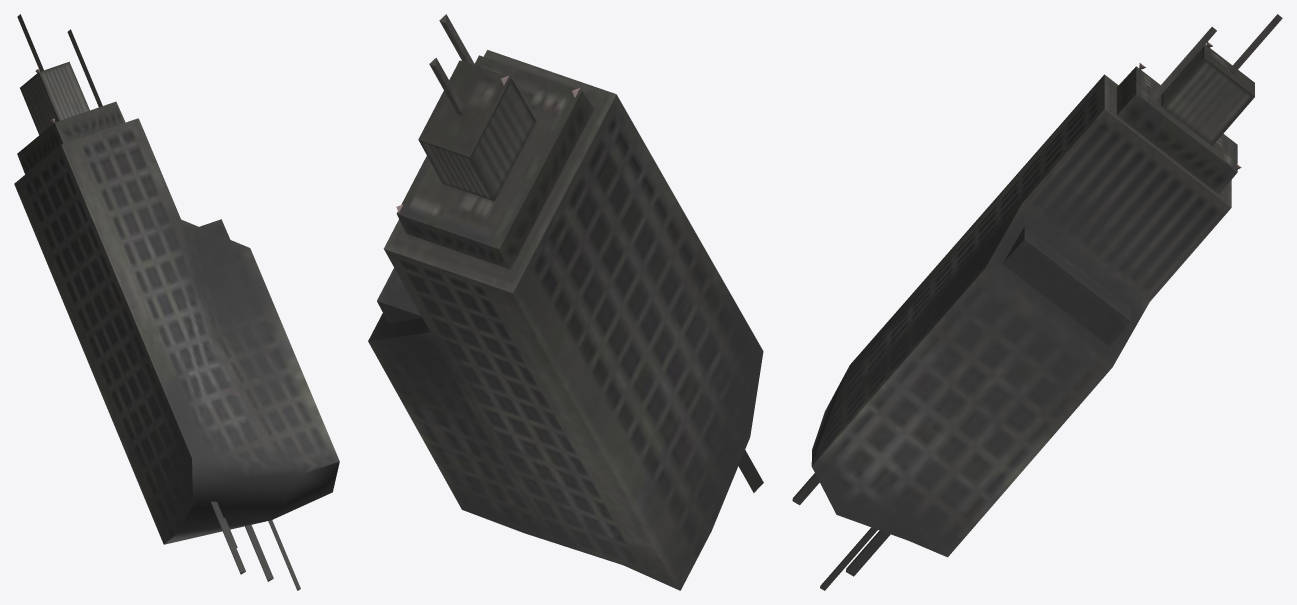
Rendered from skyBuildingAAB_pos_grp.fbx.
3 renders of one model, left to right at view 1: azimuth 30°, elevation 25°; view 2: azimuth 150°, elevation 25°; view 3: azimuth 270°, elevation 25°, orthographic. The views are drawn at different scales.
Parts seen in each view (by area): view 1: skyBuildingAAB_geo; view 2: skyBuildingAAB_geo; view 3: skyBuildingAAB_geo.
Part boxes in pixels (left/top/right/bottom): skyBuildingAAB_geo: left=14, top=14, right=339, bottom=590; skyBuildingAAB_geo: left=368, top=14, right=763, bottom=590; skyBuildingAAB_geo: left=792, top=14, right=1282, bottom=590.
Size of the model in its own units: 3.45 by 9.38 by 7.86.
